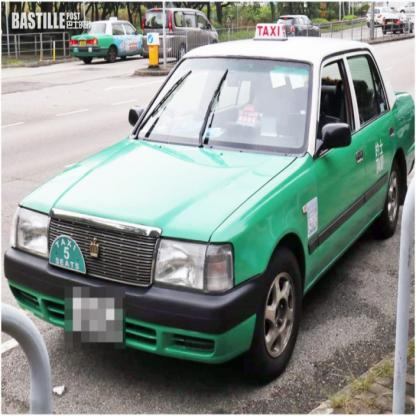taxi: (1, 17, 413, 392)
